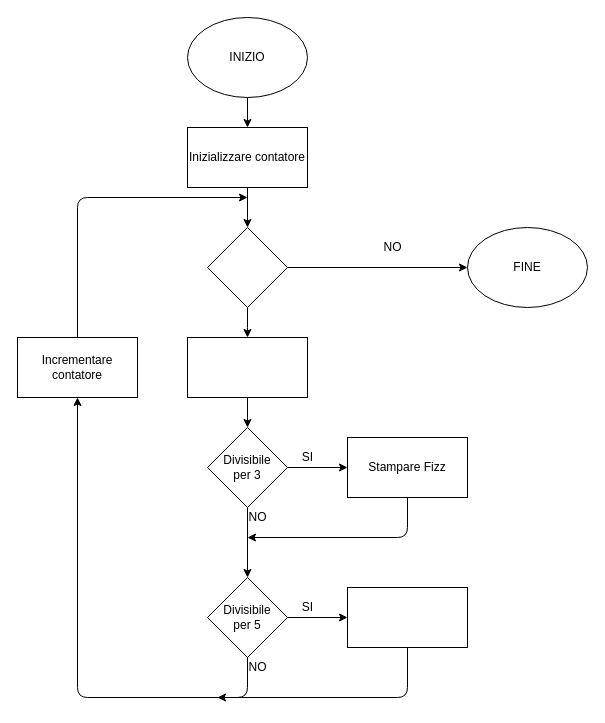
Some shapes in this 605 by 723 pixel diagram are drawn without their labels. The centre of each missing label's shape, as x and y in pixels:
Contatore <=100: [247,267]
Stampare Buzz: [407,617]
Stampare contatore: [247,367]
